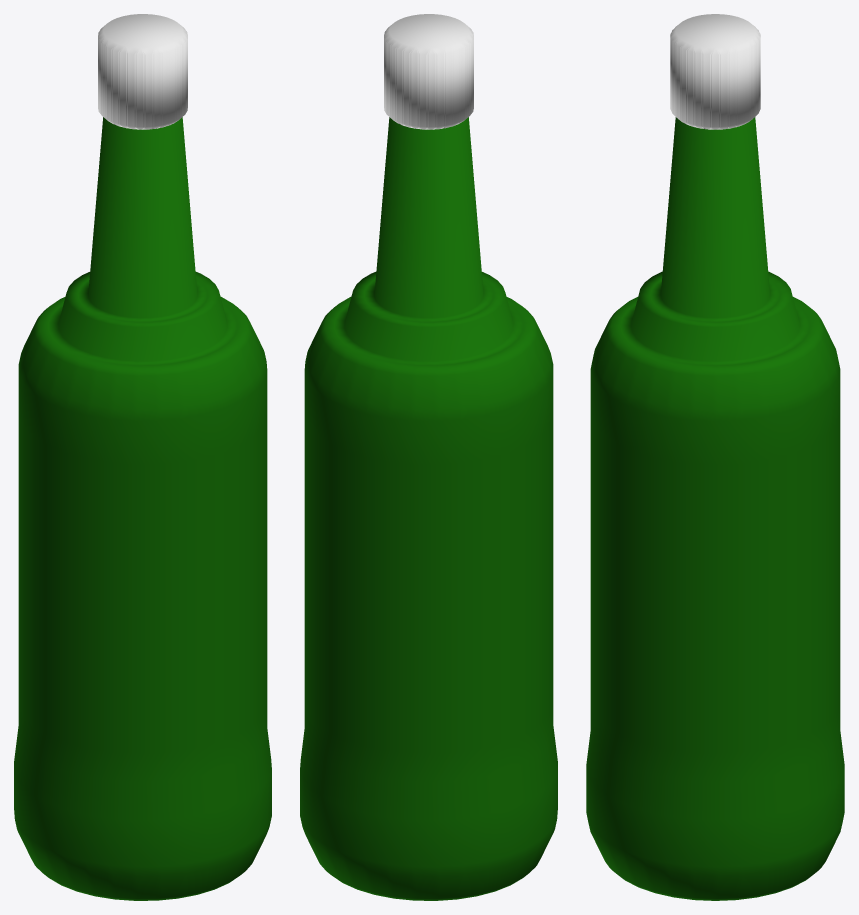
Rendered from GREEN BOTTLE.glb.
The picture shows the model from 3 angles, left to right: view 1: azimuth 30°, elevation 25°; view 2: azimuth 150°, elevation 25°; view 3: azimuth 270°, elevation 25°; orthographic projection.
Visible parts, largest first — view 1: BOTTLE, LID; view 2: BOTTLE, LID; view 3: BOTTLE, LID.
Part boxes in pixels (x1,y1,x2,y2): BOTTLE: [14, 117, 271, 900]; LID: [98, 14, 187, 129]; BOTTLE: [300, 117, 557, 900]; LID: [384, 14, 473, 129]; BOTTLE: [586, 117, 844, 900]; LID: [670, 14, 760, 129].
Size of the model in its own units: 0.1464 by 0.5152 by 0.1464.
